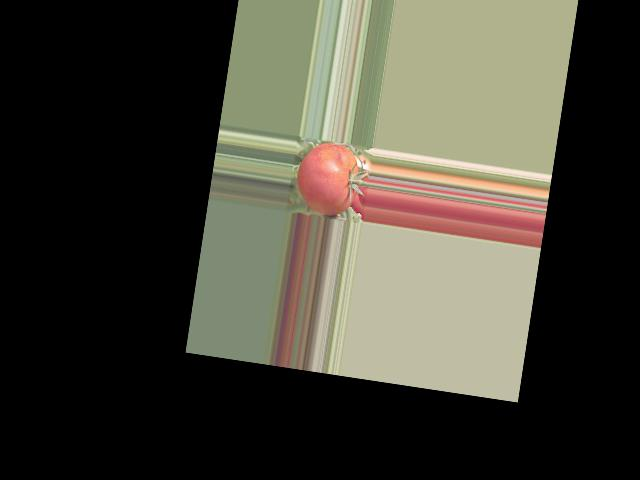tomato: (292, 138, 363, 218)
